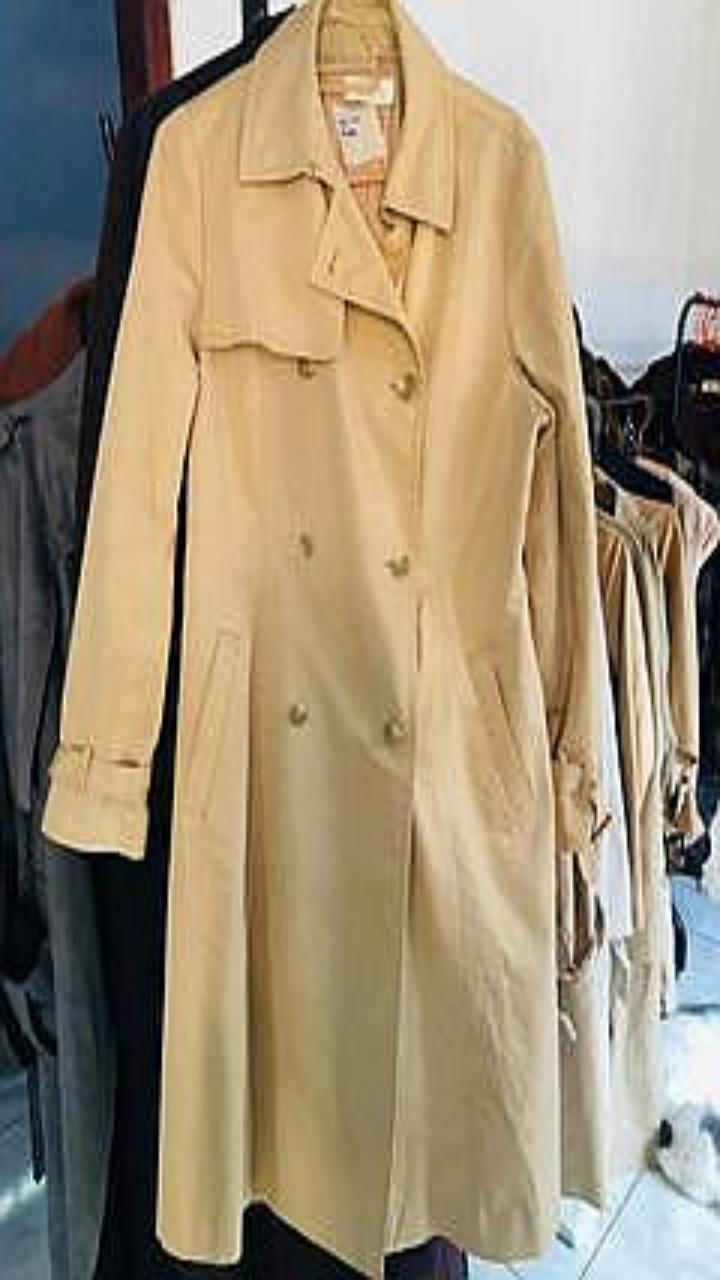Coat: (0, 287, 115, 1279)
